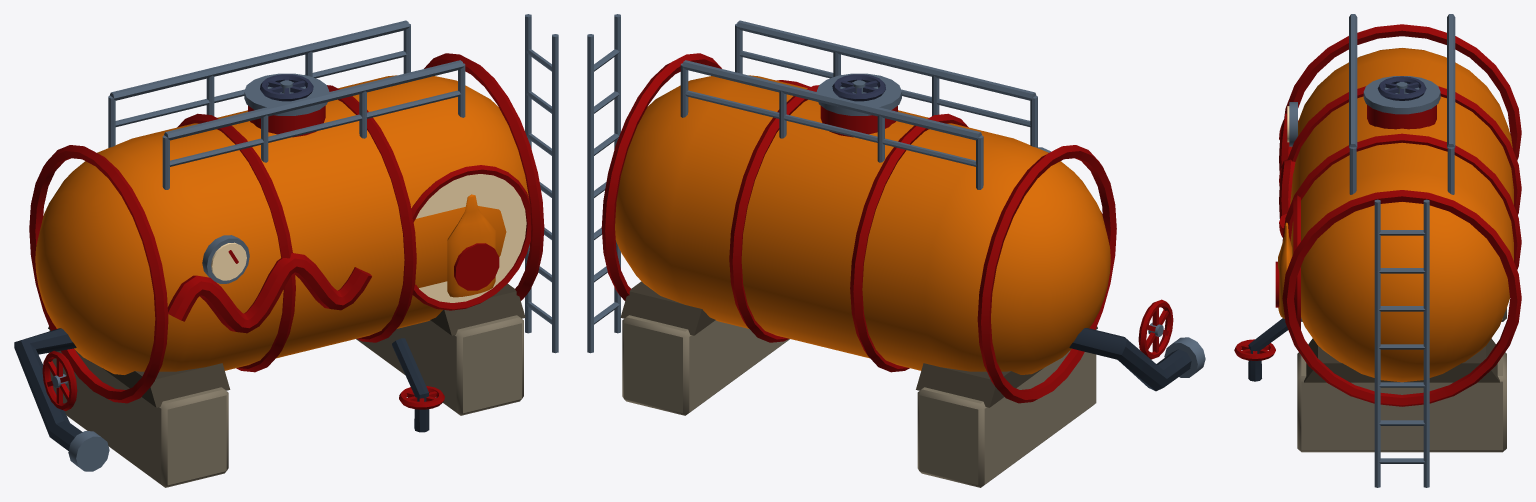
The model's file is FuelTank.obj.
3 renders of one model, left to right at view 1: azimuth 30°, elevation 25°; view 2: azimuth 150°, elevation 25°; view 3: azimuth 270°, elevation 25°, orthographic. The views are drawn at different scales.
Visible parts, largest first — view 1: FuelTank; view 2: FuelTank; view 3: FuelTank.
Part boxes in pixels (x1,y1,x2,y2): FuelTank: (14,14,558,487); FuelTank: (587,14,1205,487); FuelTank: (1234,14,1521,487).
Bounding box in the file's own units: 8 × 4.65 × 4.11.
